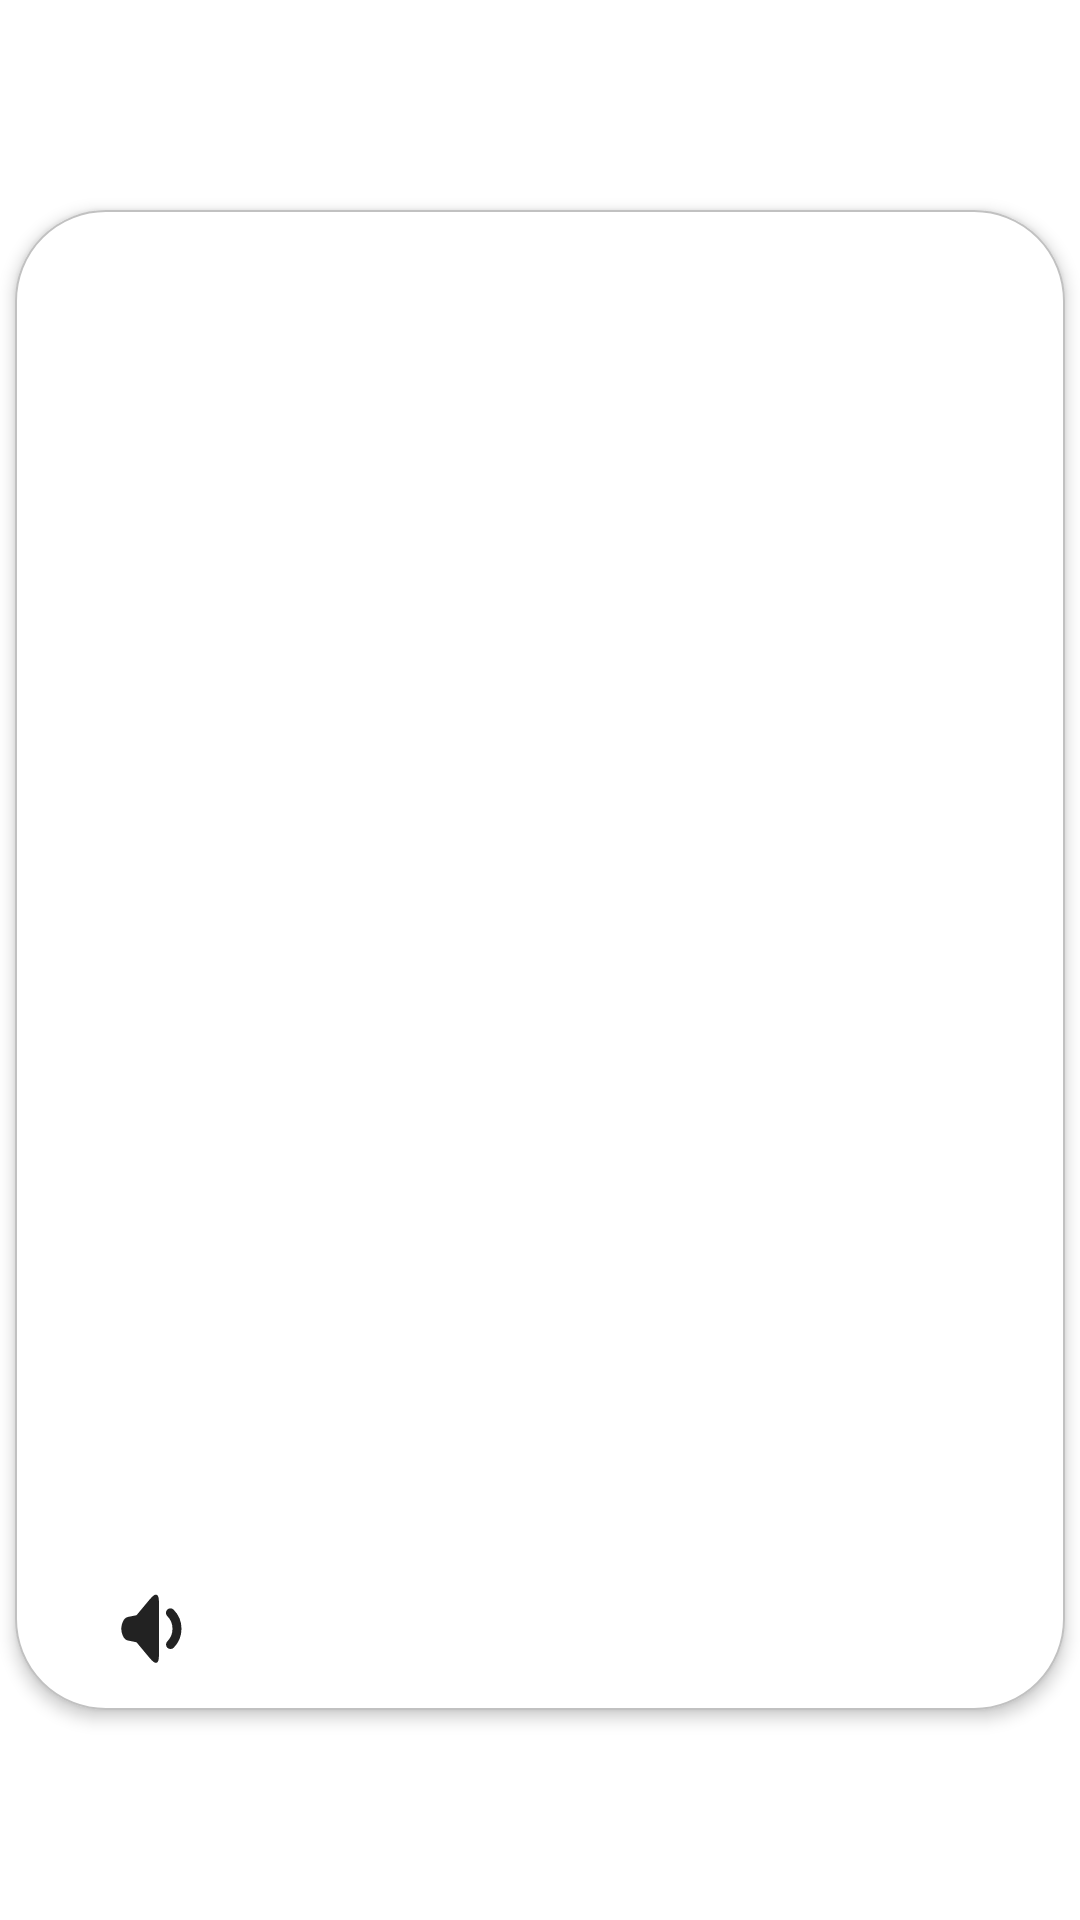

Icons on this 1080×1920 Android screen, each with the point to tap as [x,y]:
sound: [151,1628]
